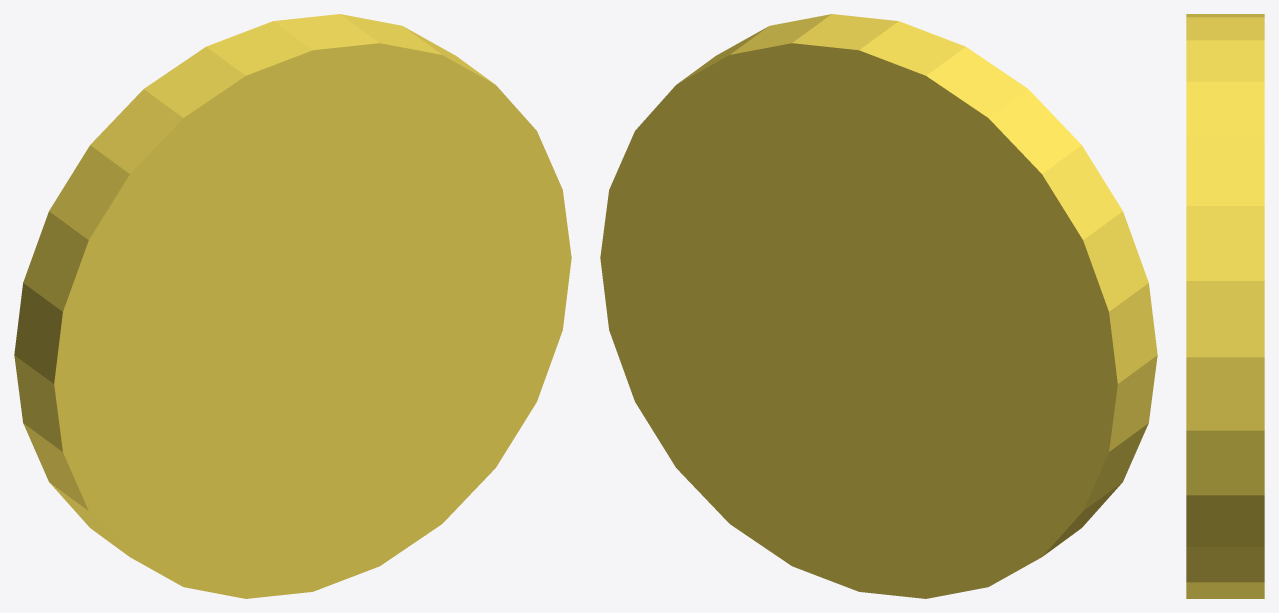
The model's file is coin.gltf.
The picture shows the model from 3 angles, left to right: view 1: azimuth 30°, elevation 25°; view 2: azimuth 150°, elevation 25°; view 3: azimuth 270°, elevation 25°; orthographic projection.
Parts seen in each view (by area): view 1: Coin; view 2: Coin; view 3: Coin.
Boxes of the visible parts, x1,y1,x2,y2 form: Coin: [14, 14, 571, 598]; Coin: [600, 14, 1157, 598]; Coin: [1186, 14, 1264, 598].
Size of the model in its own units: 0.6 by 0.6 by 0.08.
